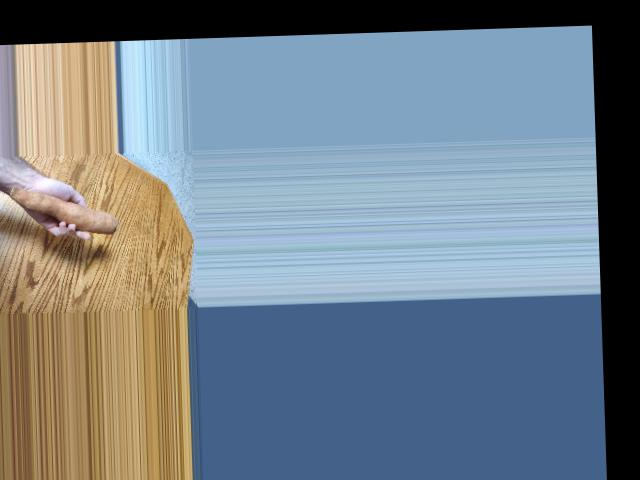sweet_potato: (8, 180, 119, 239)
